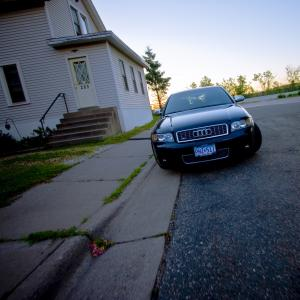Vehicle-registration-plate: (194, 143, 218, 158)
